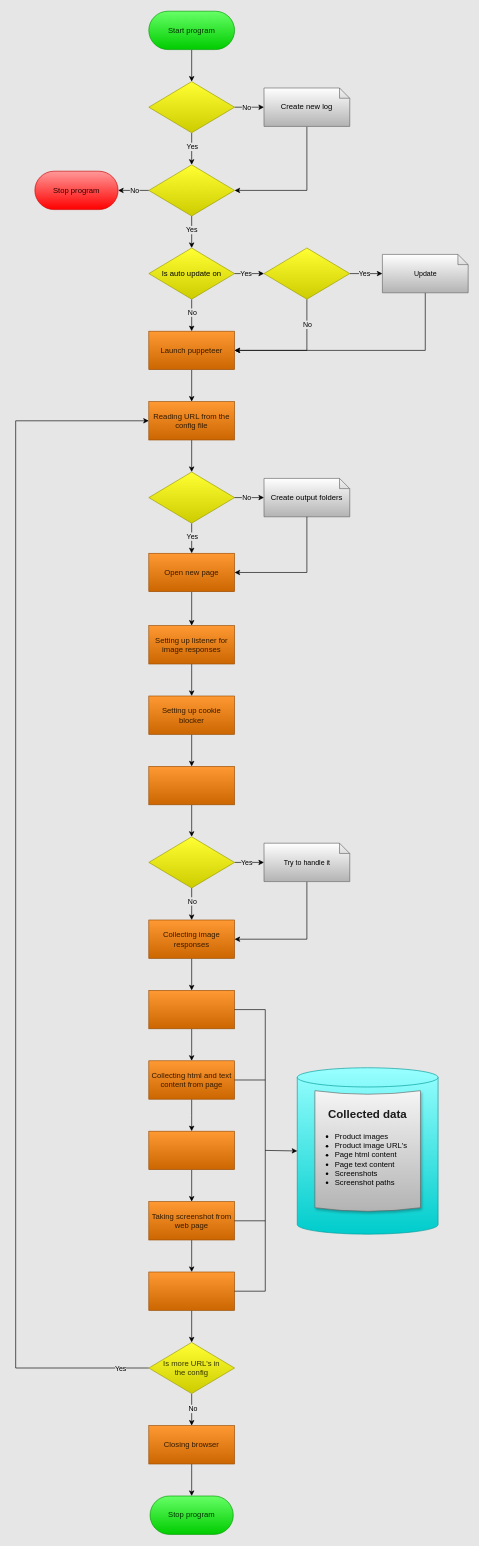
Image size: 479x1546. Some labels were removed from this diagram. Each missing label, with the centre of its shape:
Auto scrolling web page: point 191,1150
Consolidating collected data: point 191,1290
Does log file exist: point 191,107
Found cookie or other type popup: point 191,862
Is enough space available: point 191,190
Is output location: point 191,497
Is updates available: point 306,273
Navigating to URL: point 191,785
Saving images: point 191,1009
